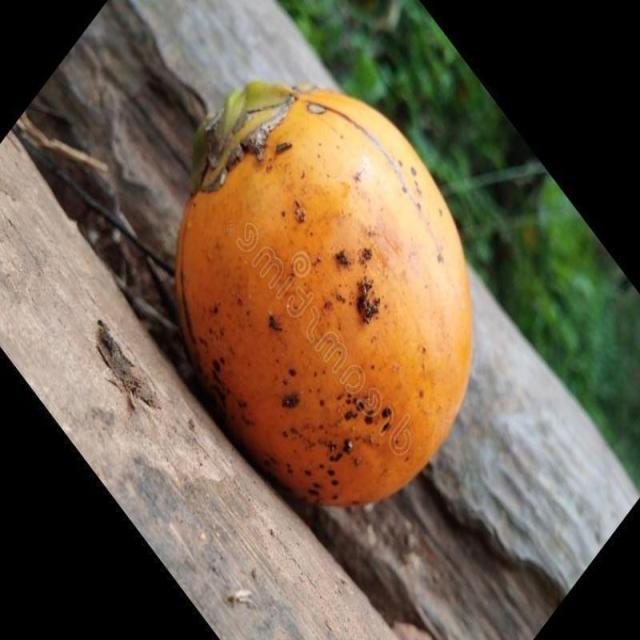good: (174, 80, 474, 509)
